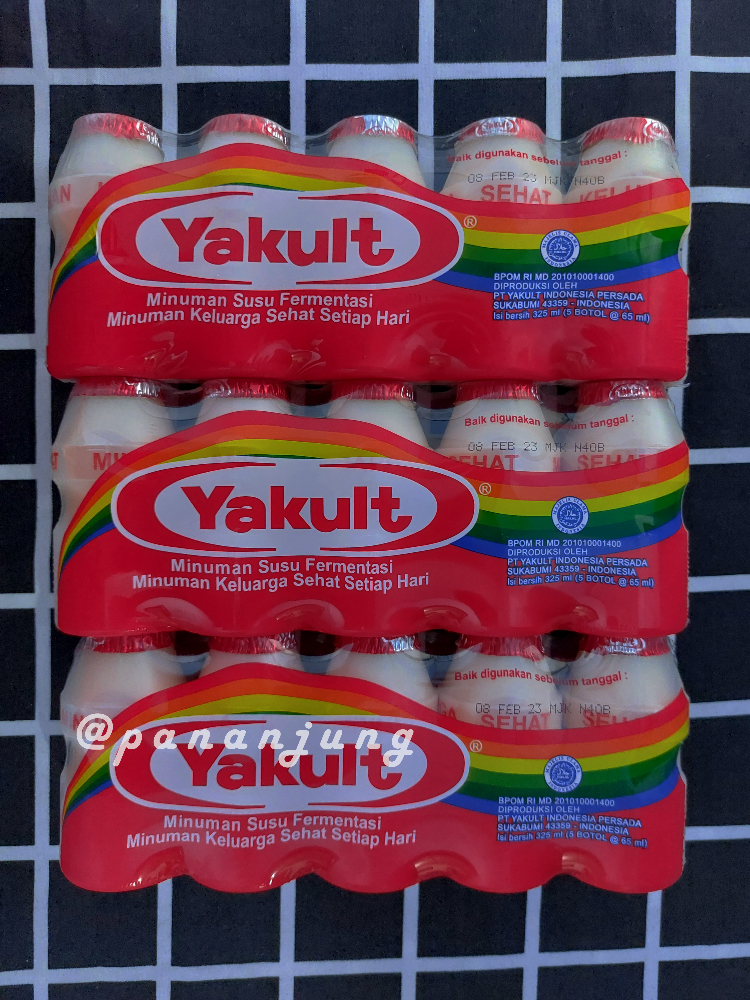Yakult (325ml): (36, 94, 692, 379), (26, 644, 699, 886), (33, 387, 689, 631)
